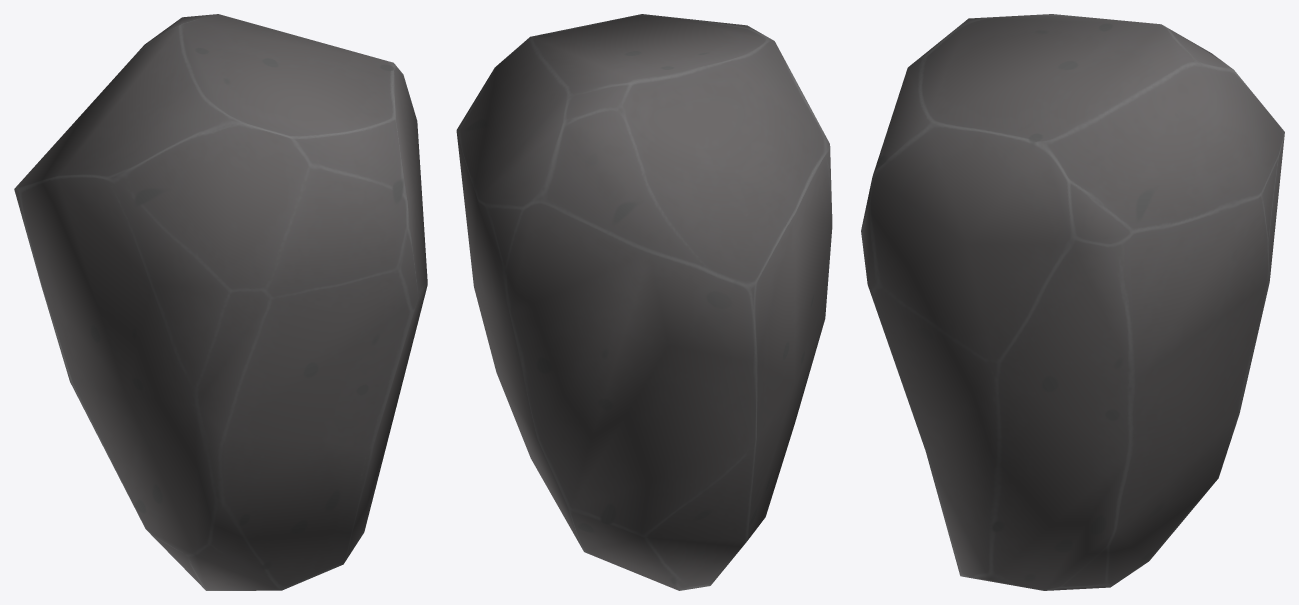
File: Rock02.fbx
The picture shows the model from 3 angles, left to right: view 1: azimuth 30°, elevation 25°; view 2: azimuth 150°, elevation 25°; view 3: azimuth 270°, elevation 25°; orthographic projection. The views are drawn at different scales.
Visible parts, largest first — view 1: Rocks02_LOD0; view 2: Rocks02_LOD0; view 3: Rocks02_LOD0.
Part boxes in pixels (x1,y1,x2,y2): Rocks02_LOD0: [14, 14, 427, 590]; Rocks02_LOD0: [456, 14, 832, 590]; Rocks02_LOD0: [861, 14, 1284, 590].
Size of what is drawn, in the model's own units: 1.26 by 1.31 by 1.9.
Materials: 1 (1 with a texture image).
